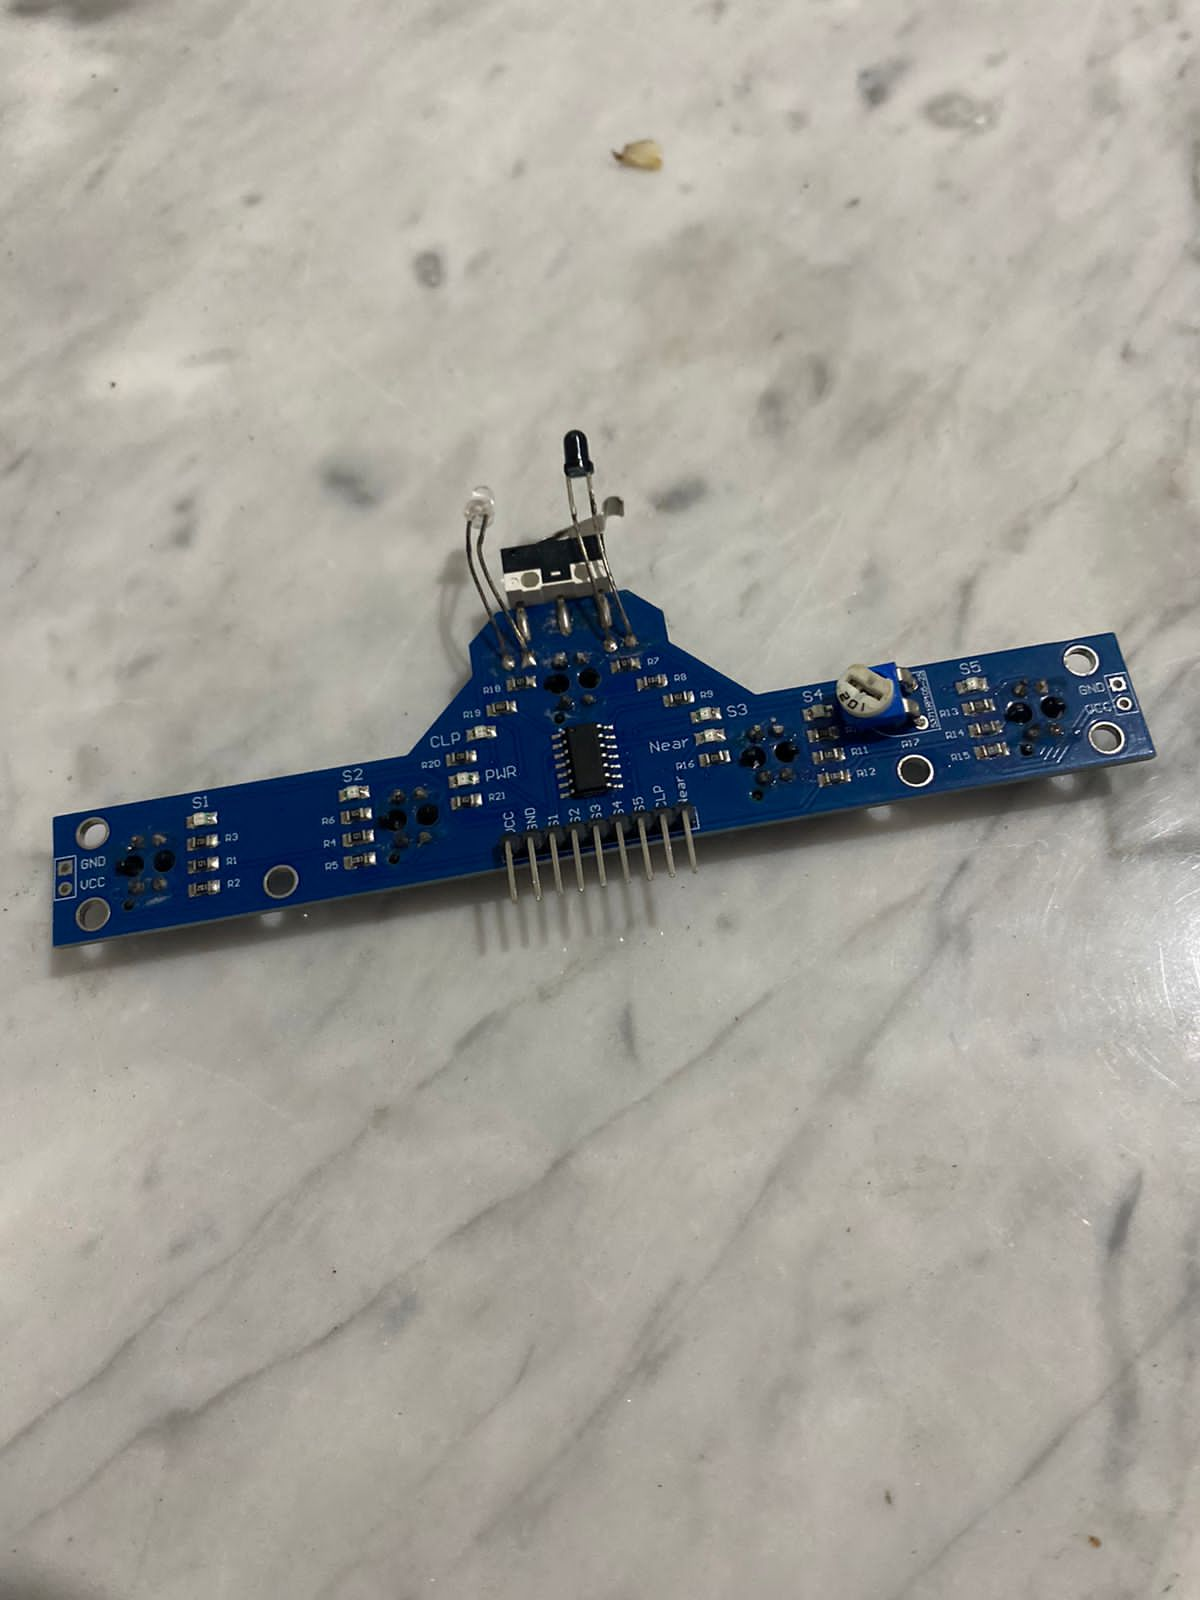Capteur-IR-5 Voies: (50, 364, 1163, 968)
